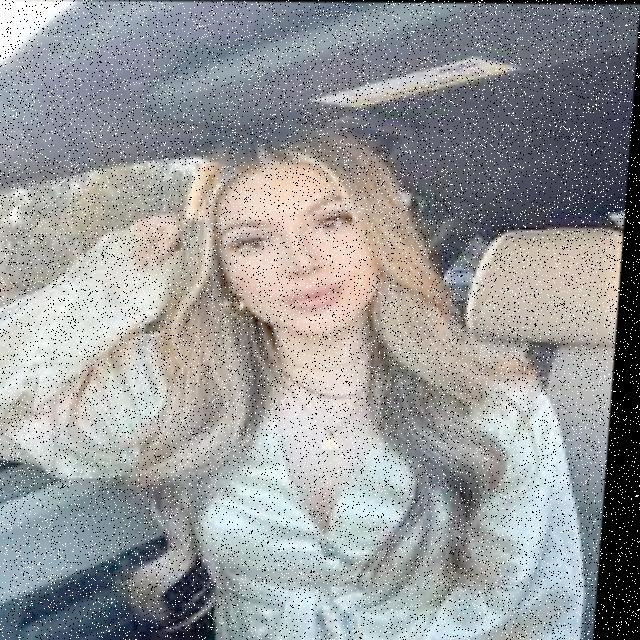noSeatbelt: (126, 331, 583, 640)
